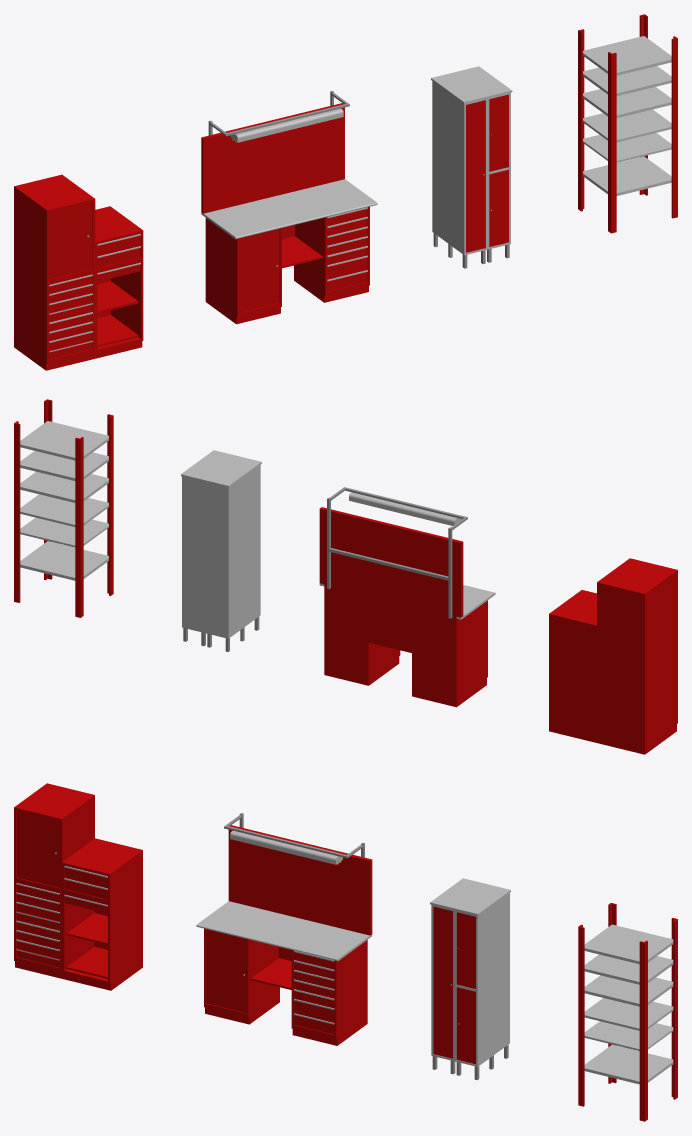
The model's file is WorkbenchAndStuff.fbx.
3 views of the same model, one above another, from view 1: azimuth 30°, elevation 25°; view 2: azimuth 150°, elevation 25°; view 3: azimuth 330°, elevation 25° (orthographic).
Visible parts, largest first — view 1: Workbench, Workbench_Cabinet, Workbench_Shelf, Workbench_Cabinet02; view 2: Workbench, Workbench_Cabinet, Workbench_Shelf, Workbench_Cabinet02; view 3: Workbench, Workbench_Cabinet, Workbench_Cabinet02, Workbench_Shelf.
Boxes of the visible parts, x1=… form: Workbench: x1=201, y1=91, x2=377, y2=324; Workbench_Cabinet: x1=14, y1=174, x2=143, y2=370; Workbench_Shelf: x1=578, y1=14, x2=677, y2=233; Workbench_Cabinet02: x1=431, y1=66, x2=512, y2=268; Workbench: x1=319, y1=487, x2=495, y2=707; Workbench_Cabinet: x1=549, y1=558, x2=677, y2=754; Workbench_Shelf: x1=14, y1=399, x2=113, y2=617; Workbench_Cabinet02: x1=181, y1=450, x2=261, y2=651; Workbench: x1=196, y1=813, x2=372, y2=1045; Workbench_Cabinet: x1=14, y1=783, x2=142, y2=990; Workbench_Cabinet02: x1=430, y1=878, x2=510, y2=1080; Workbench_Shelf: x1=578, y1=903, x2=677, y2=1121.
Bounding box in the file's own units: 706 × 191 × 71.45.
